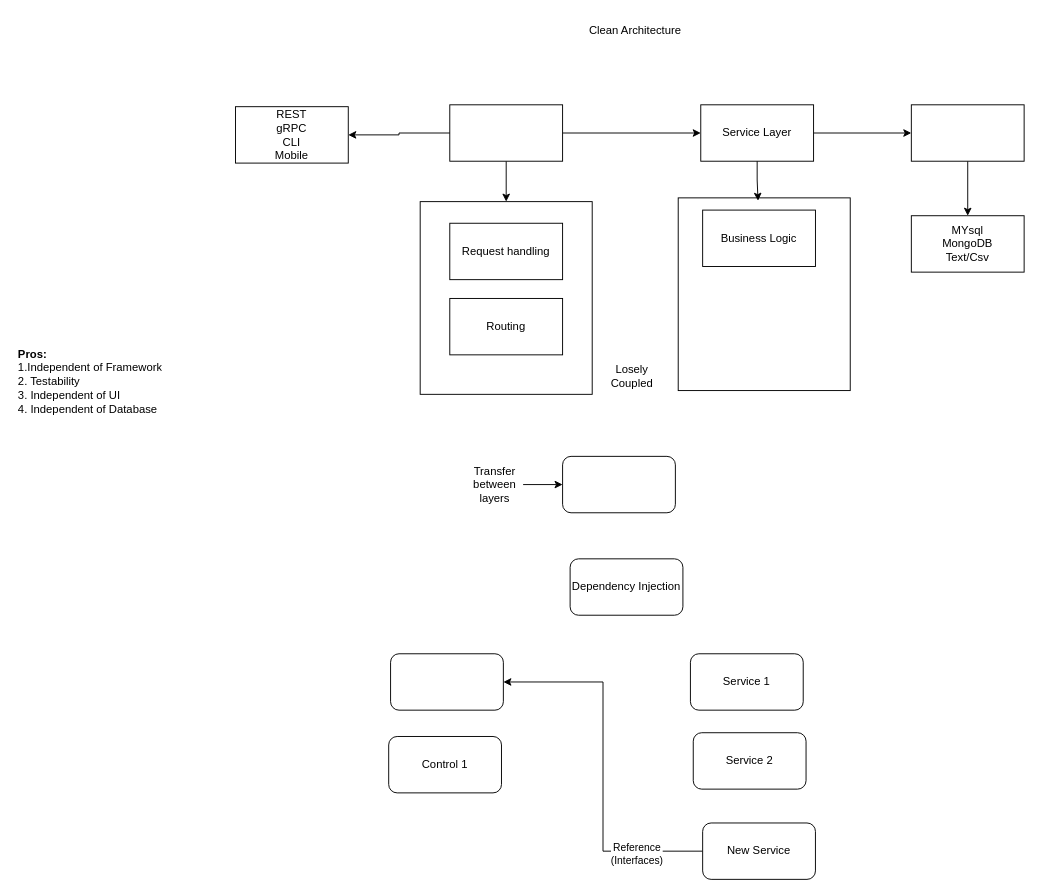
This 1041x896 diagram has some shape labels left out. The shapes that lost their labels are listed below. From the top down, each one's centre as x and y in pixels, then its label:
point 506,132: control Layer
point 967,132: Data Layer
point 618,484: Domains/Models
point 446,681: Control1
